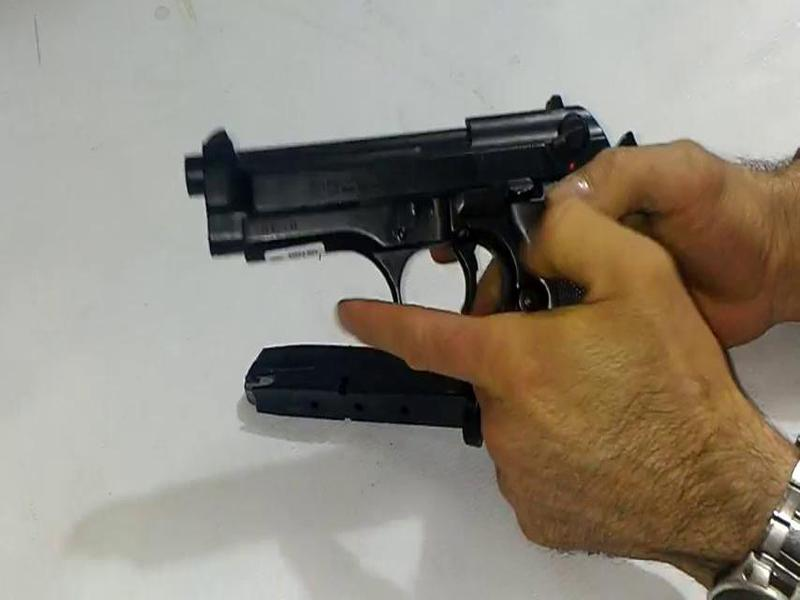Pistola: (146, 74, 684, 478)
